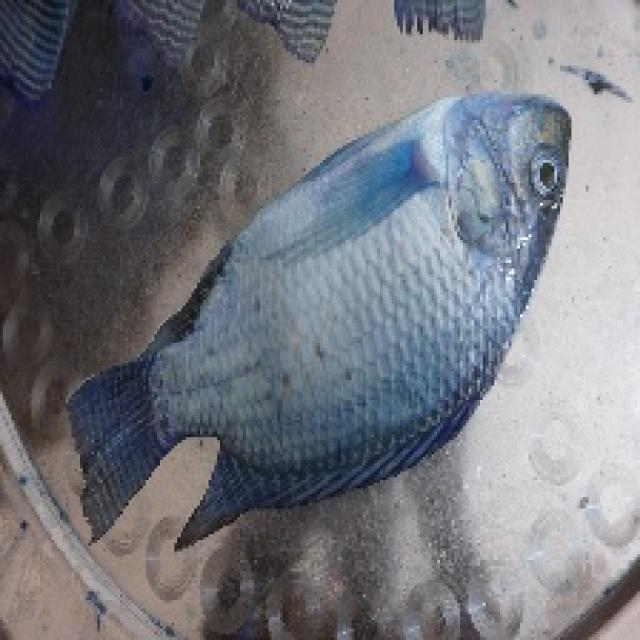Fresh: (70, 78, 590, 526)
